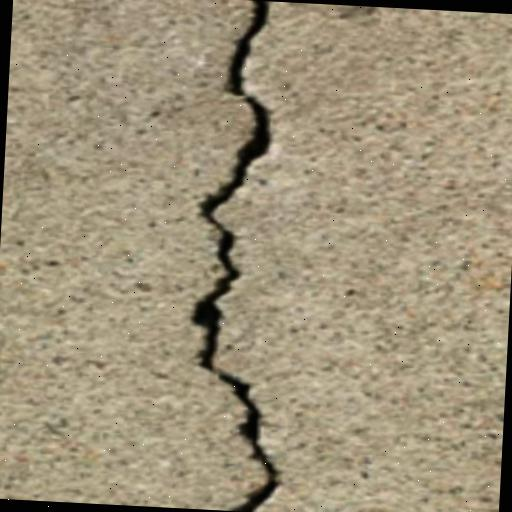spalling: (188, 2, 293, 512)
